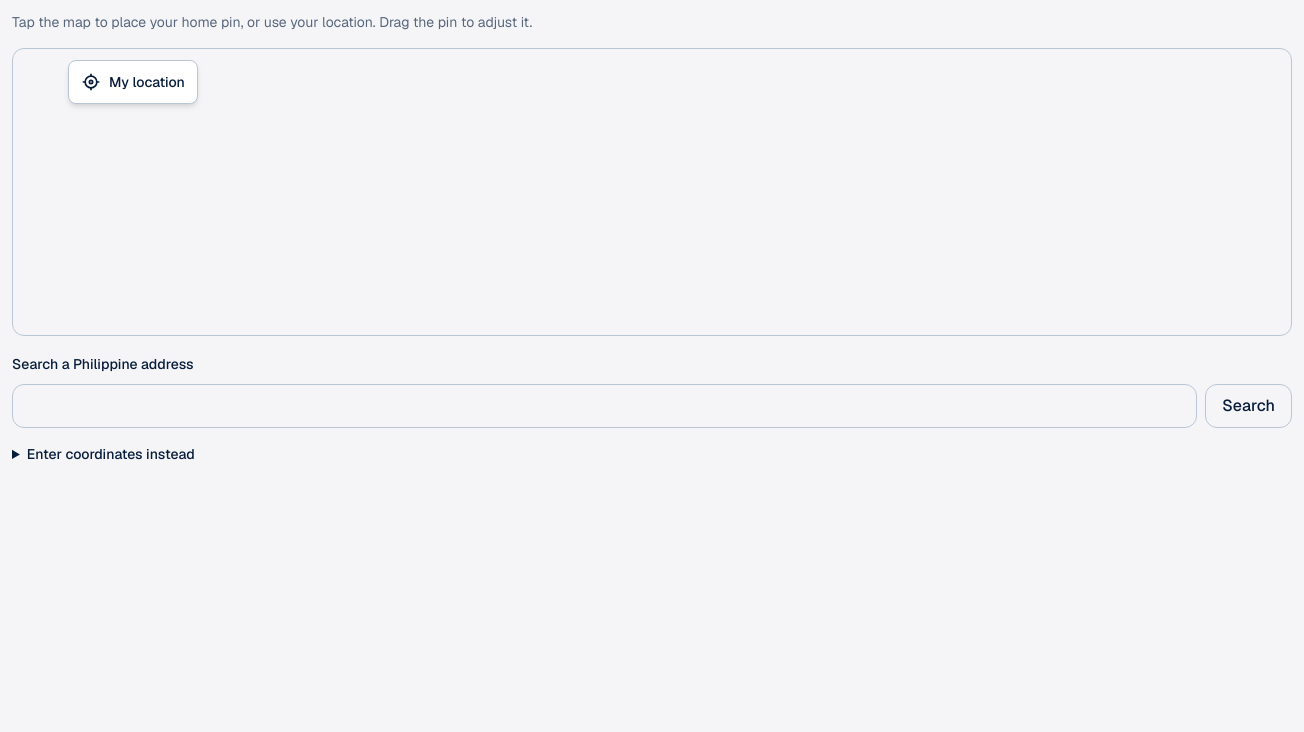
moves the marker and view without rebuilding the map or tiles
The width and height of the screenshot is (1304, 732).
Step 1. Click the heading "Enter coordinates instead" → {"x": 111, "y": 454}, box [27,445,195,463]
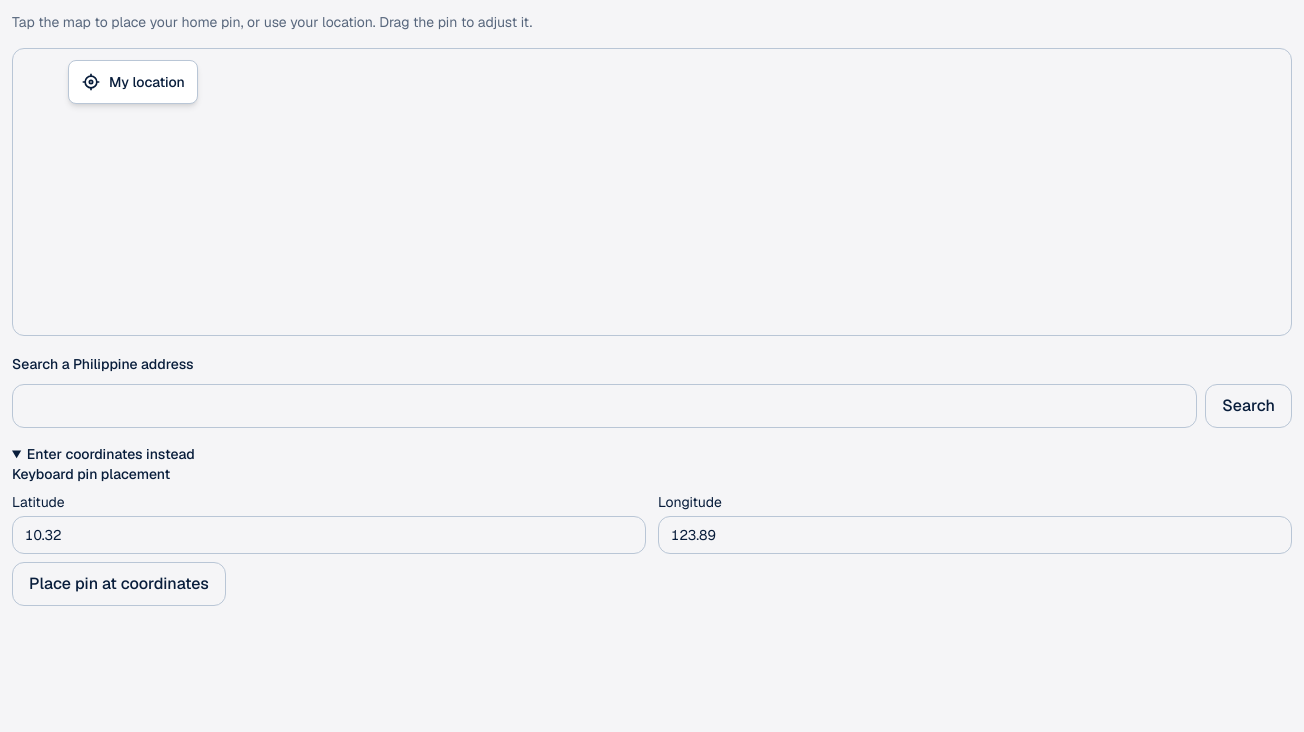
Expected: the field labelled "Latitude" is shown, [12,516,646,554]
